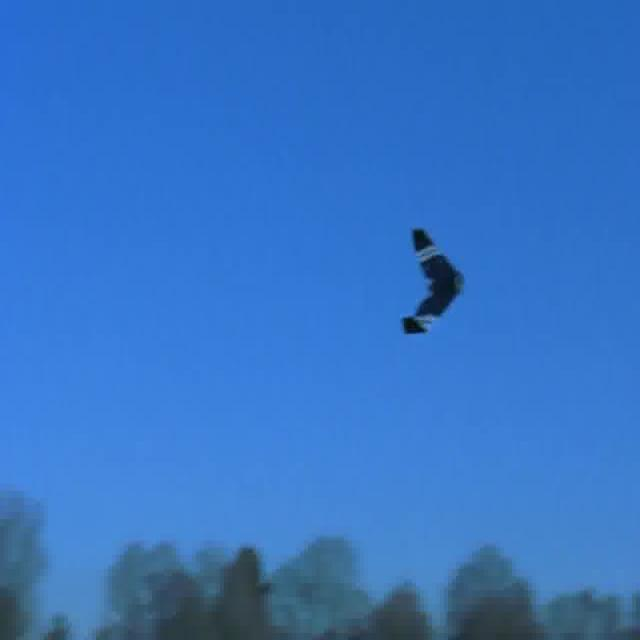iha: (432, 220, 436, 354)
